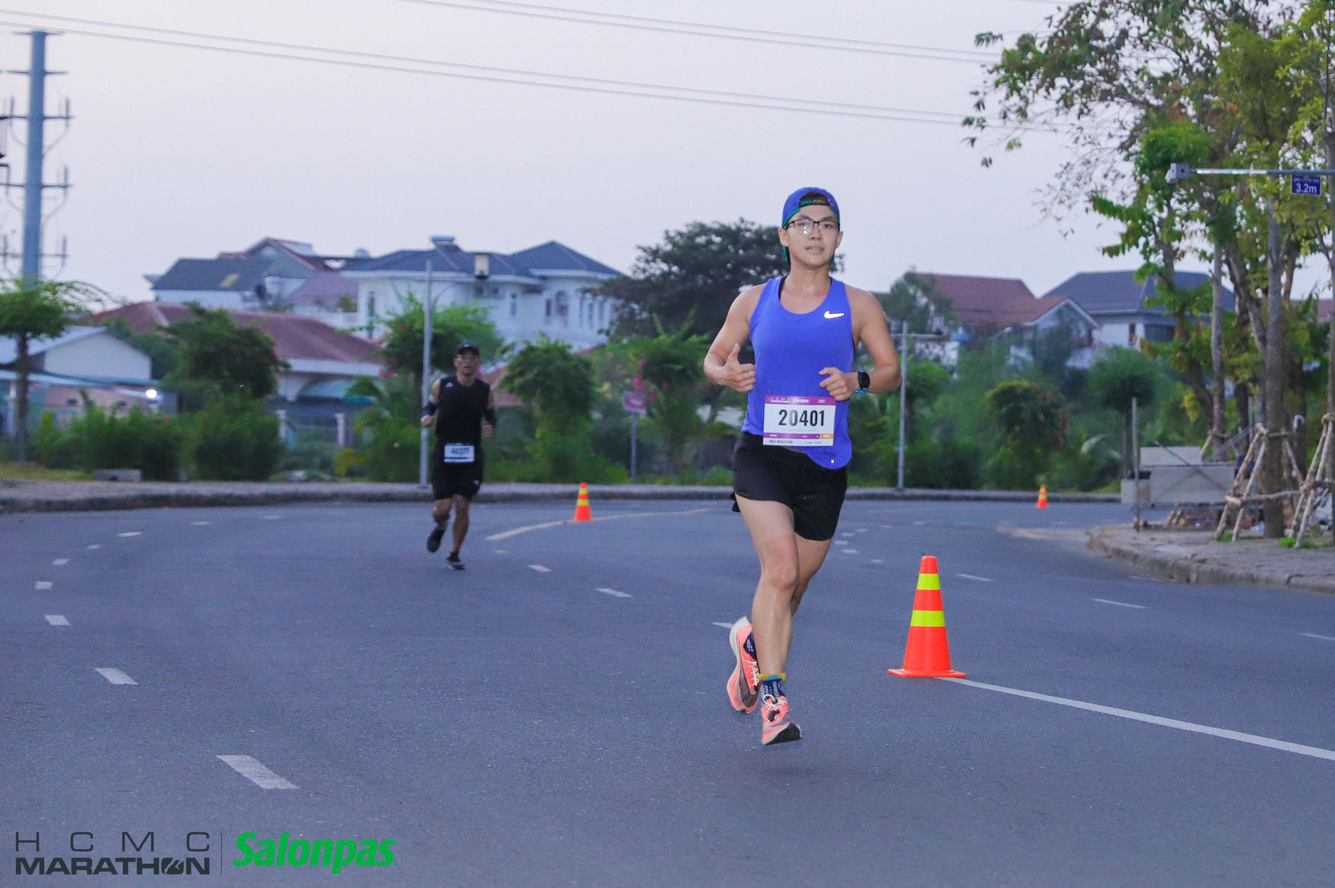bib: (760, 395, 839, 448), (444, 443, 475, 464)
